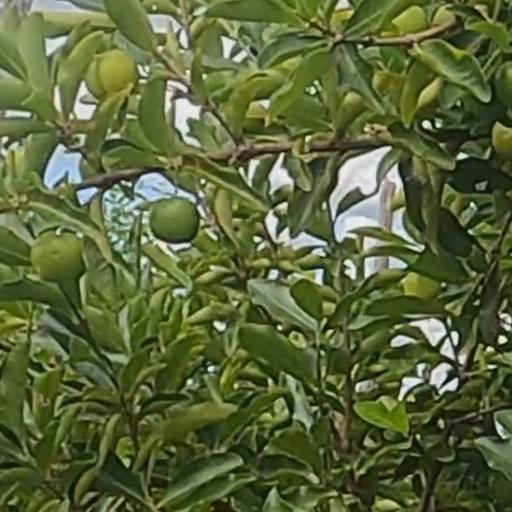acerola: (34, 232, 84, 279), (153, 197, 197, 242), (86, 53, 137, 91)
